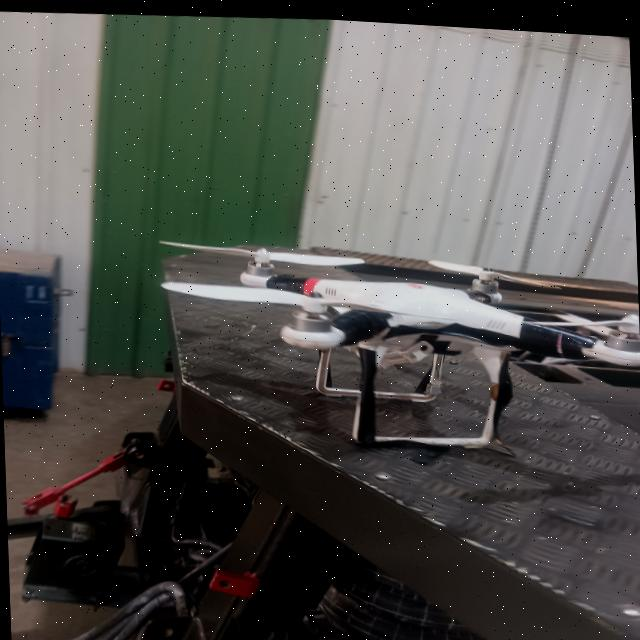drone: (183, 208, 640, 489)
